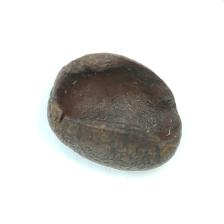NG: (50, 62, 182, 143)
